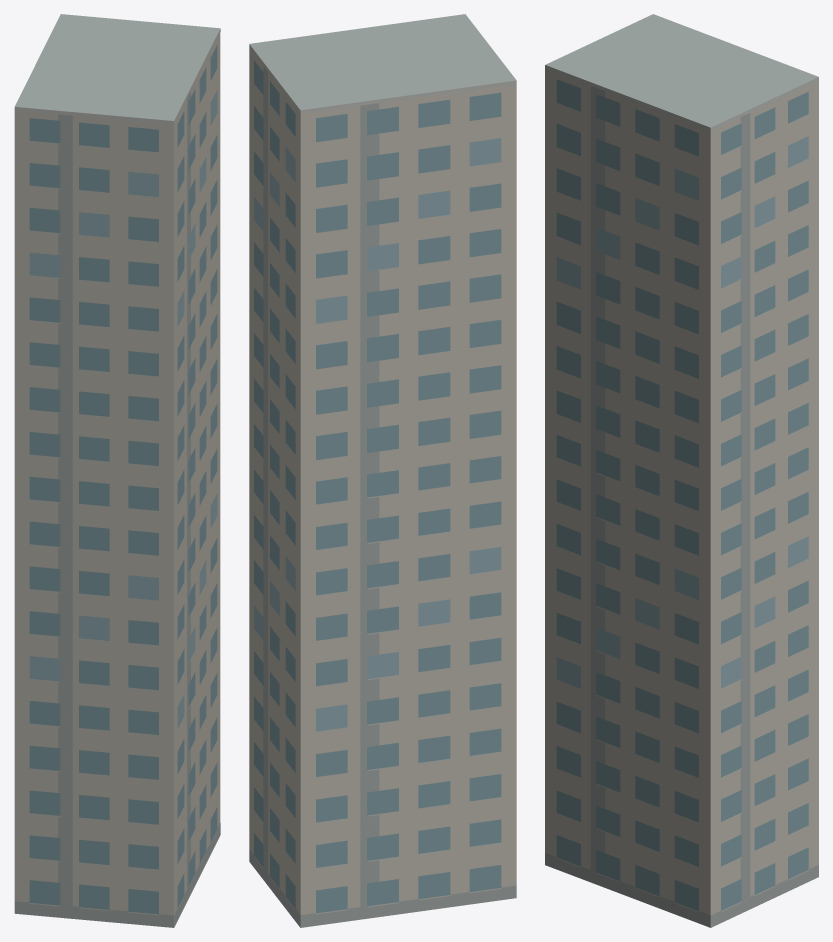
The model's file is residential-baf5db2b-ad58-4d2f-a30c-994fcd73920c.glb.
3 renders of one model, left to right at view 1: azimuth 30°, elevation 25°; view 2: azimuth 150°, elevation 25°; view 3: azimuth 270°, elevation 25°, orthographic. The views are drawn at different scales.
Parts seen in each view (by area): view 1: residential-baf5db2b-ad58-4d2f-a30c-994fcd73920c.tmp; view 2: residential-baf5db2b-ad58-4d2f-a30c-994fcd73920c.tmp; view 3: residential-baf5db2b-ad58-4d2f-a30c-994fcd73920c.tmp.
Part boxes in pixels (x1,y1,x2,y2): residential-baf5db2b-ad58-4d2f-a30c-994fcd73920c.tmp: [14, 14, 220, 927]; residential-baf5db2b-ad58-4d2f-a30c-994fcd73920c.tmp: [249, 14, 516, 927]; residential-baf5db2b-ad58-4d2f-a30c-994fcd73920c.tmp: [545, 14, 818, 927].
Bounding box in the file's own units: 16.46 × 54 × 16.75.
